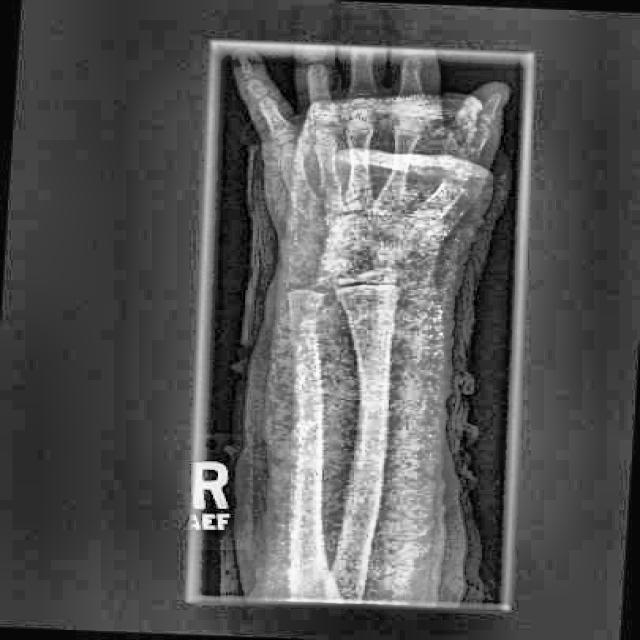fingers positive: (284, 202, 479, 347)
